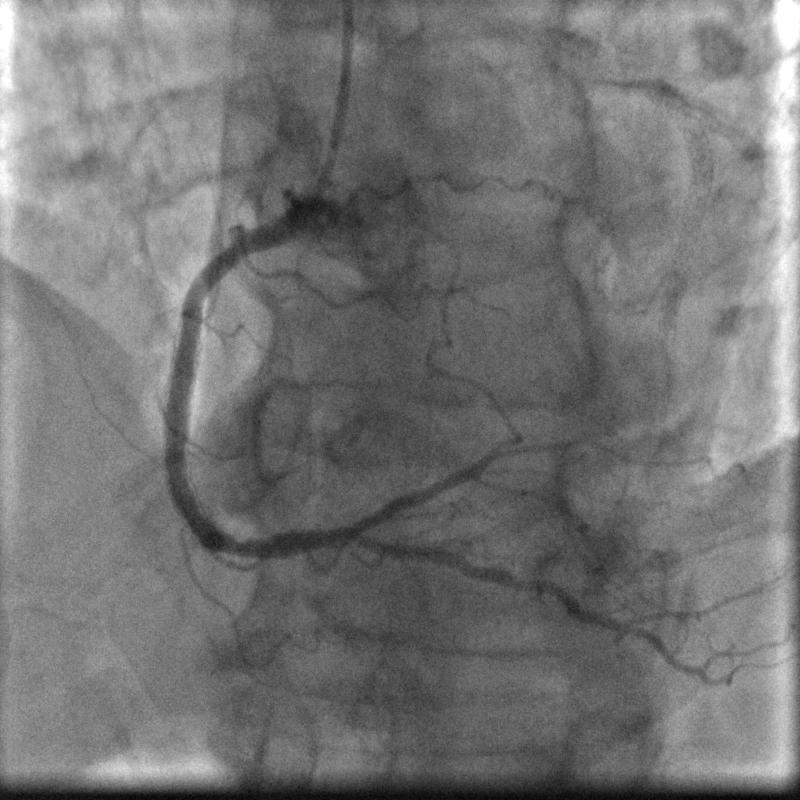Stenosis: (202, 236, 251, 300)
